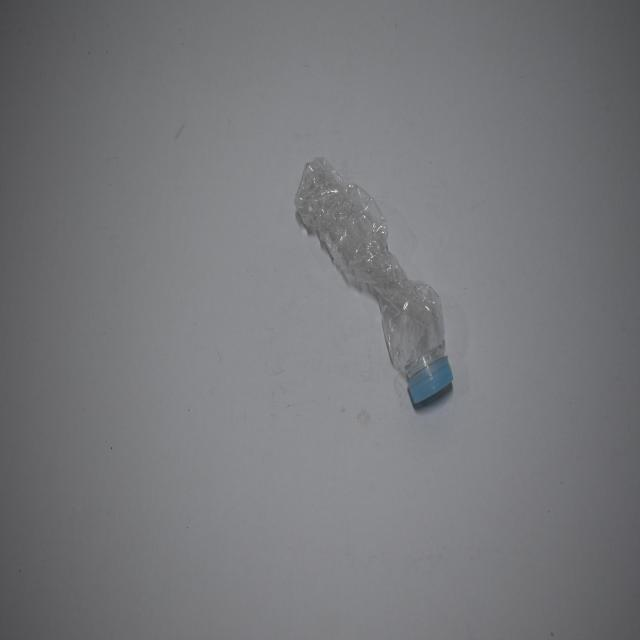bottle: (288, 134, 462, 417)
